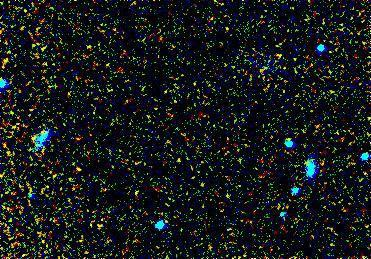star: (63, 154, 93, 184)
